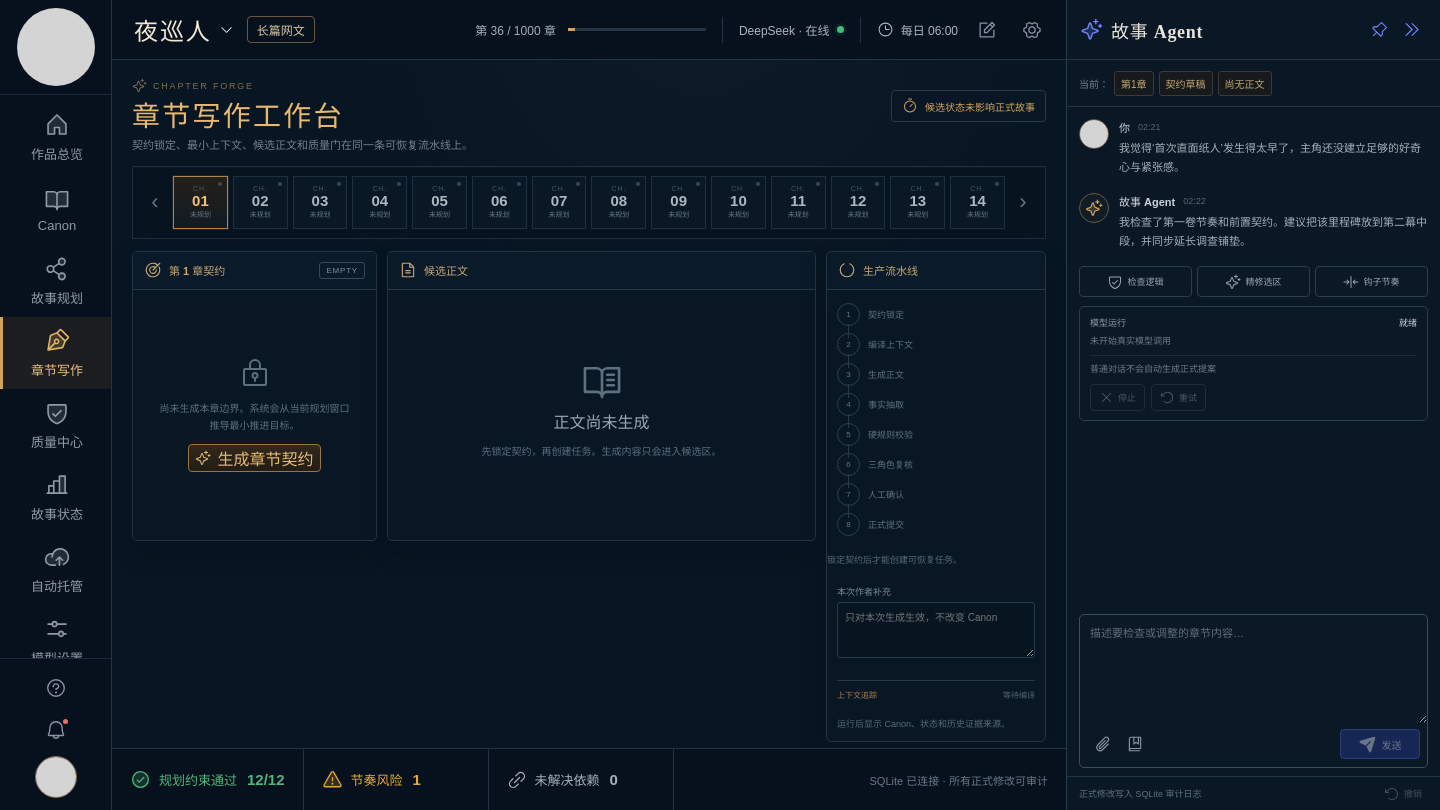
Test: Story Agent shell › opens the real chapter writing and quality workspaces
Expected: the heading "章节写作工作台" is shown, [132,101,344,132]
Expected: the button "生成章节契约" is shown, [188,444,320,472]
Click the link "质量中心" at (57, 425), box [31,400,83,450]
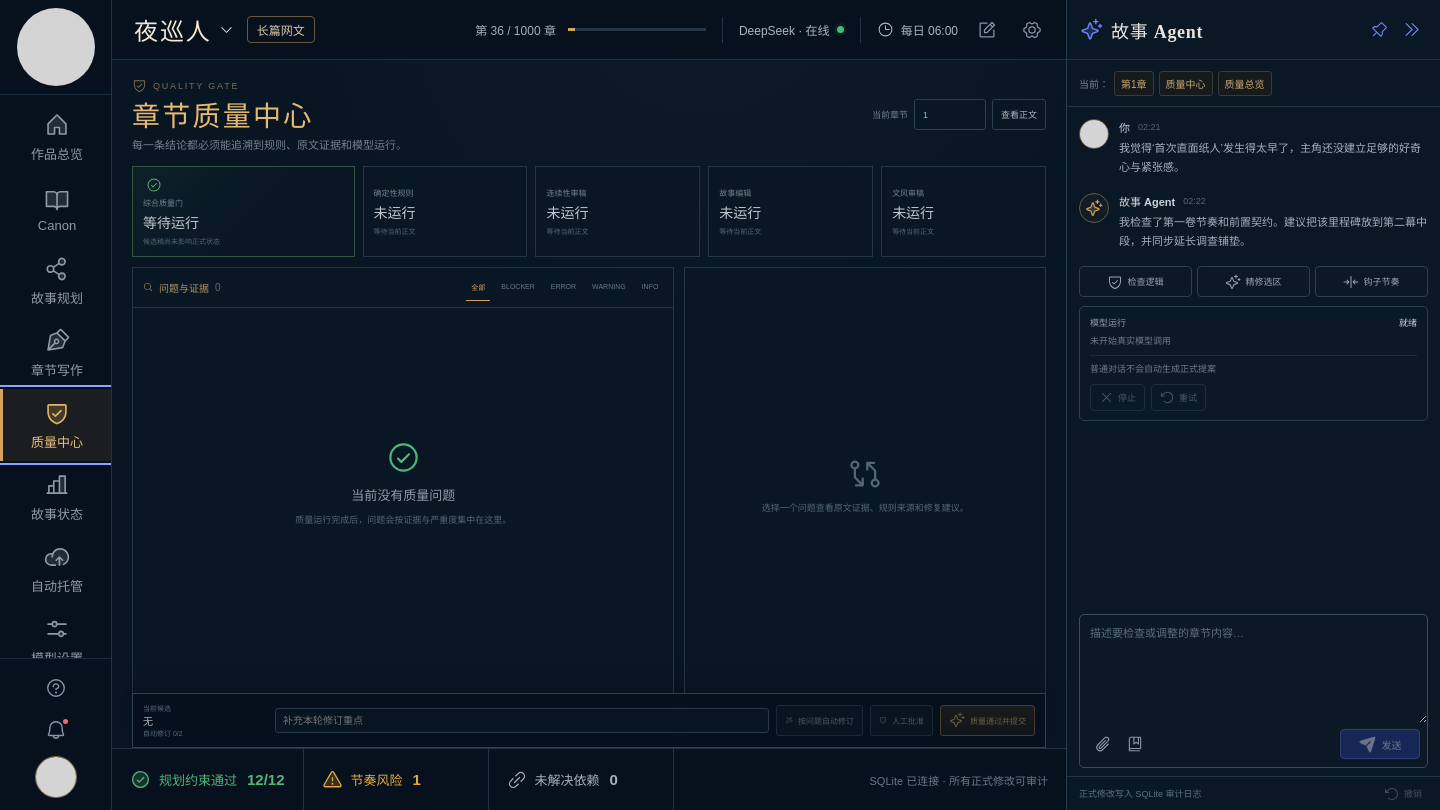
Now the heading "章节质量中心" is shown, box [132,101,314,132]
Now the text "综合质量门" is shown, box [143,199,183,208]
